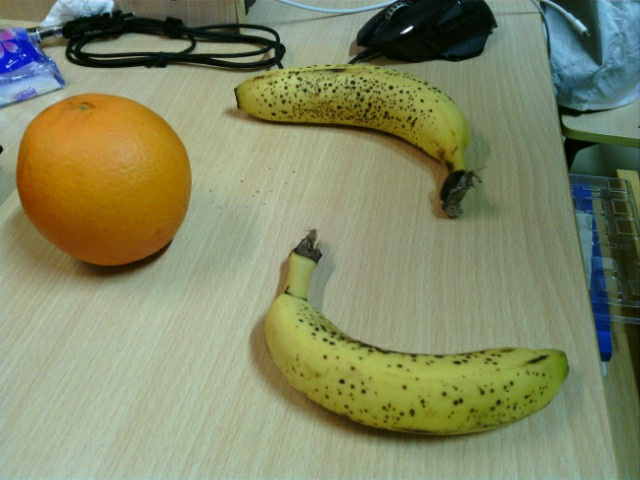normal_banana: (263, 230, 571, 435), (234, 63, 476, 219)
normal_orange: (17, 93, 193, 267)
